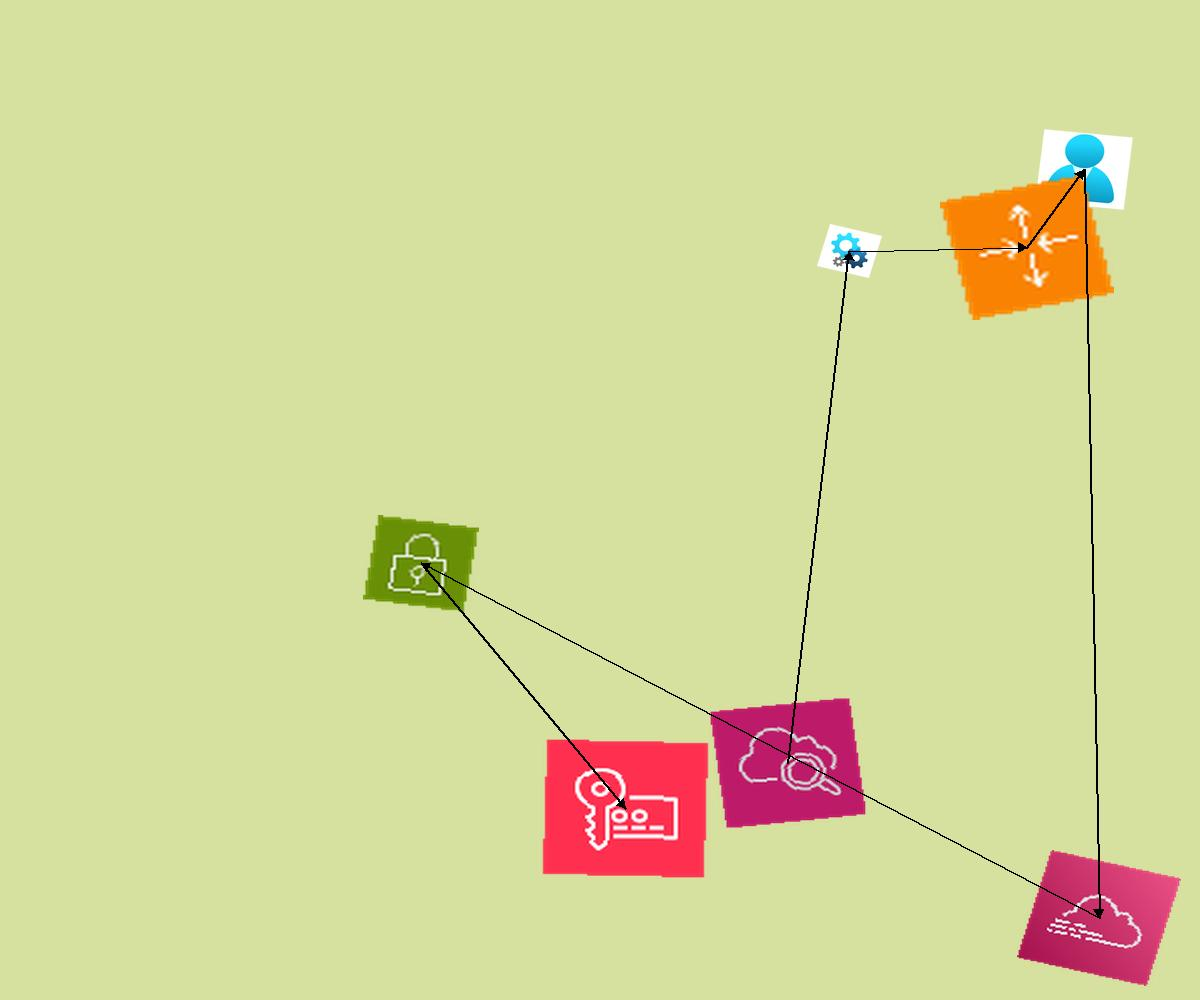AWS-CloudTrail: (1017, 850, 1181, 986)
AWS-CloudWatch: (709, 697, 867, 829)
AWS-Key-Management-Service: (541, 738, 710, 879)
AWS-Public-subnet: (363, 515, 479, 612)
AWS-Scaling-group: (940, 175, 1114, 320)
Azure_api: (817, 224, 882, 278)
Azure_users: (1035, 129, 1133, 210)
